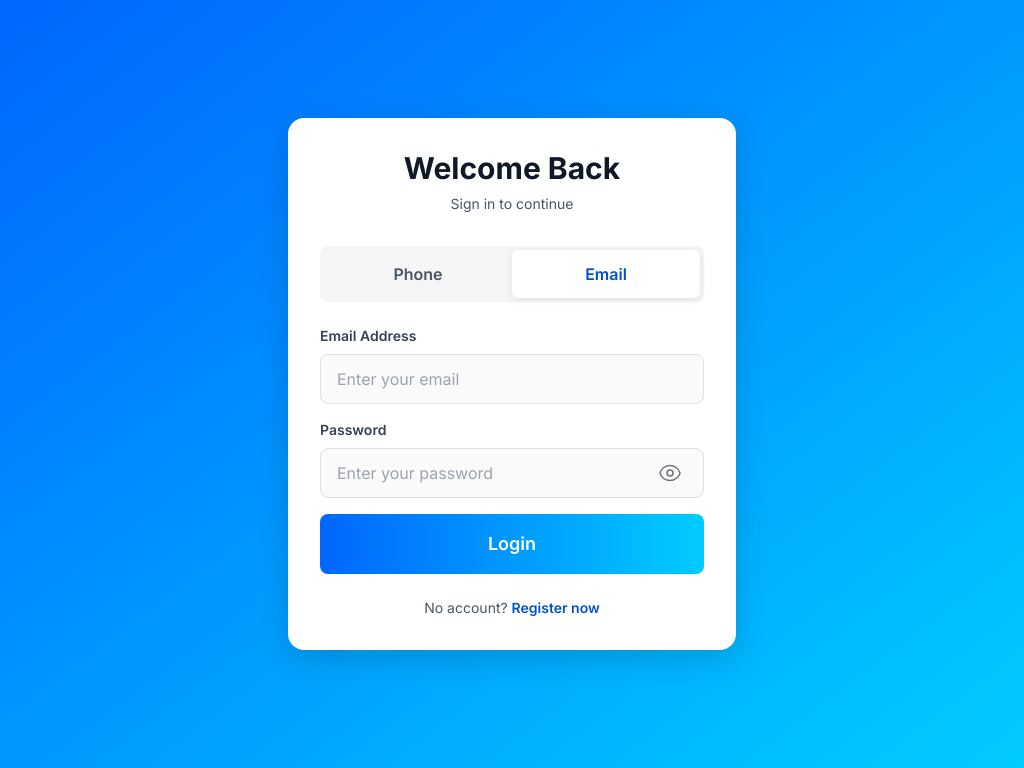
Scenario: LoginPage › shows validation error for empty email
The width and height of the screenshot is (1024, 768).
In the password field labelled "Password": (512, 473) [320,448,704,498], type "password123"
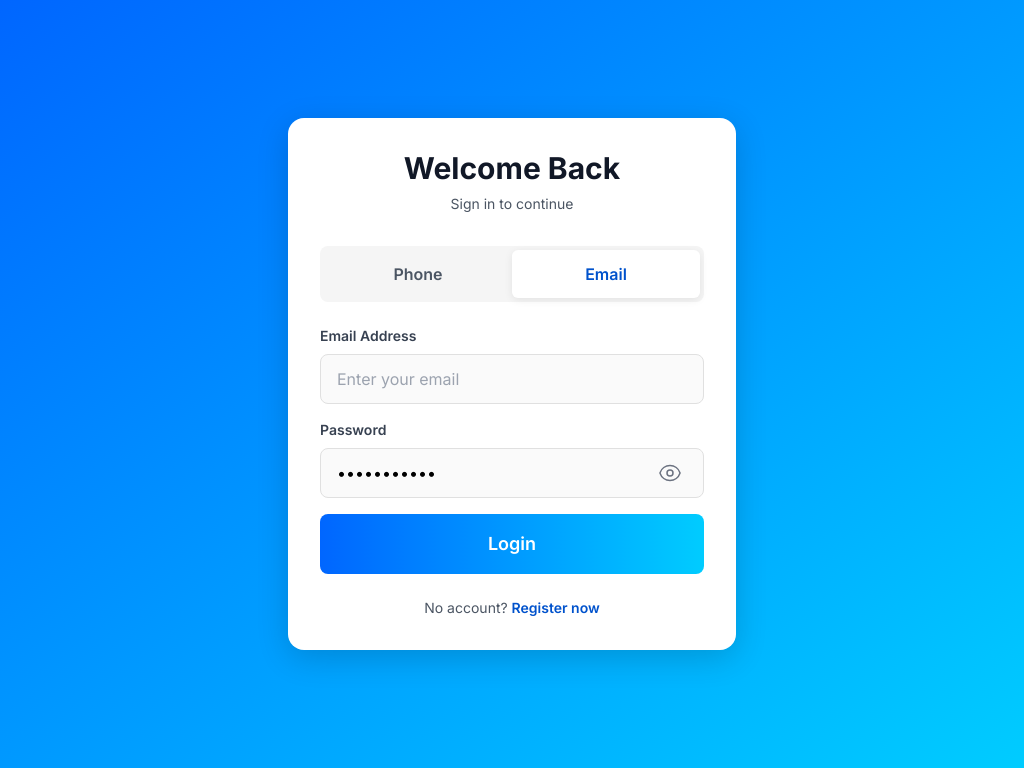
Click the button "Login": (512, 544) [320,514,704,574]
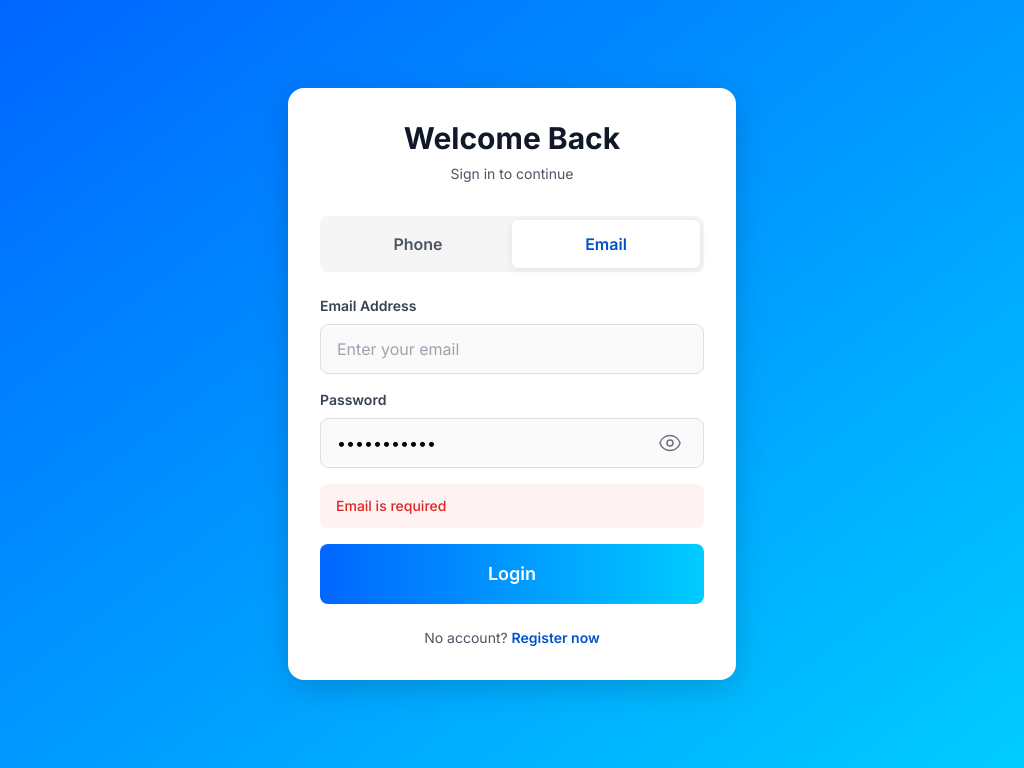
Now the text "Email is required" is shown, box [320,484,704,528]
